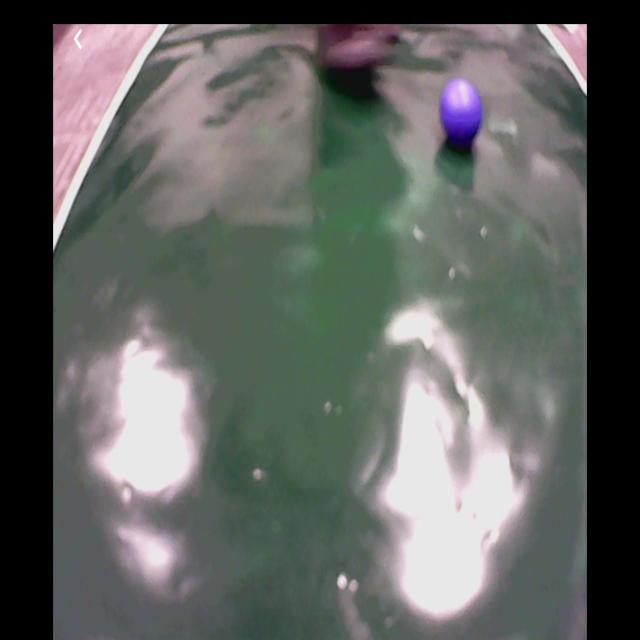ball: (438, 81, 483, 141)
